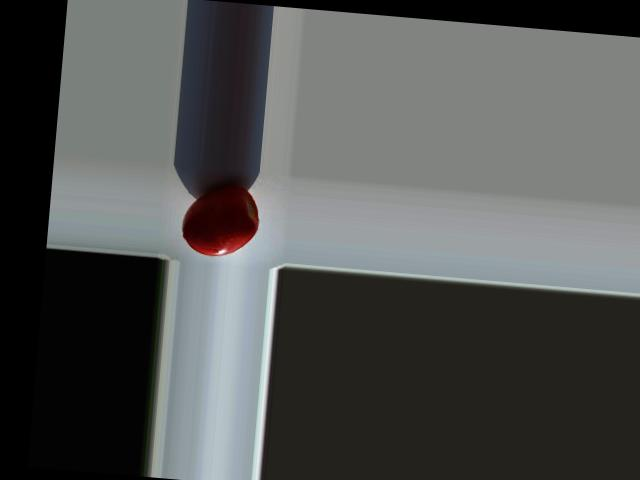tomato: (179, 181, 261, 259)
